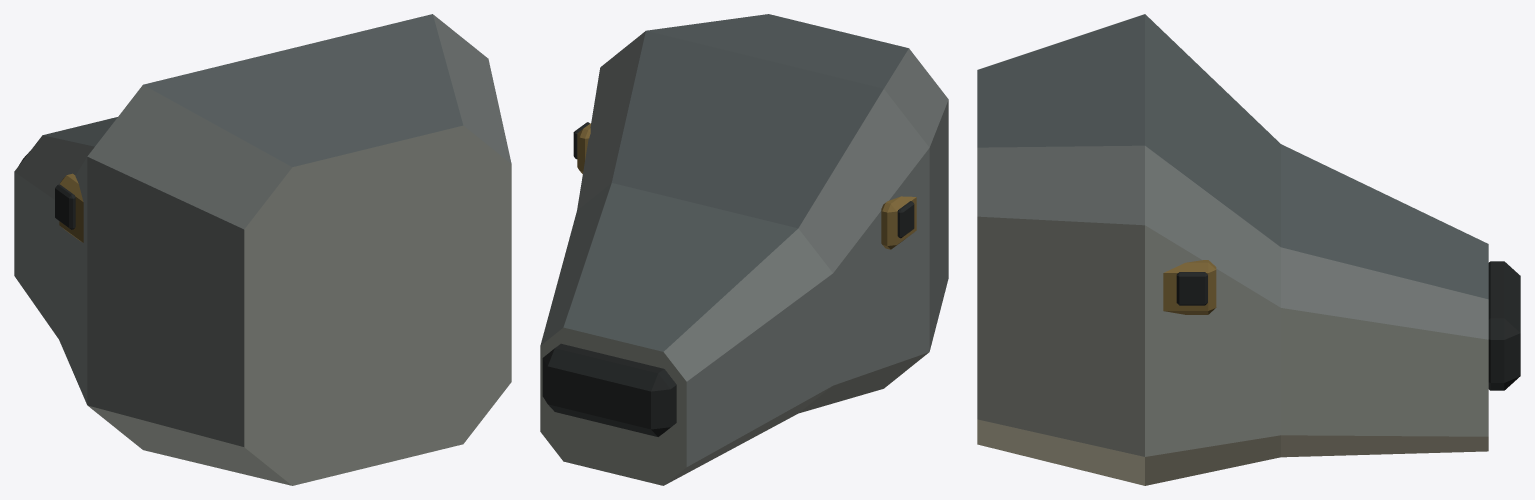
File: head.glb
3 renders of one model, left to right at view 1: azimuth 30°, elevation 25°; view 2: azimuth 150°, elevation 25°; view 3: azimuth 270°, elevation 25°, orthographic. The views are drawn at different scales.
Parts seen in each view (by area): view 1: head; view 2: head; view 3: head.
Boxes of the visible parts, left/top/right/bottom form: head: left=14, top=14, right=511, bottom=485; head: left=540, top=14, right=948, bottom=485; head: left=977, top=14, right=1520, bottom=485.
Bounding box in the file's own units: 0.54 × 0.475 × 0.68.
